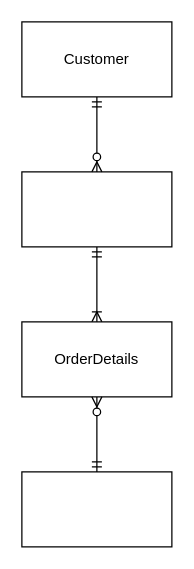
Image size: 194x569. Some labels were removed from this diagram. The box of each missing label's shape, as (x1, y1, x2, y2) in pixels:
Items: (21, 471, 172, 547)
Order: (21, 171, 172, 247)
